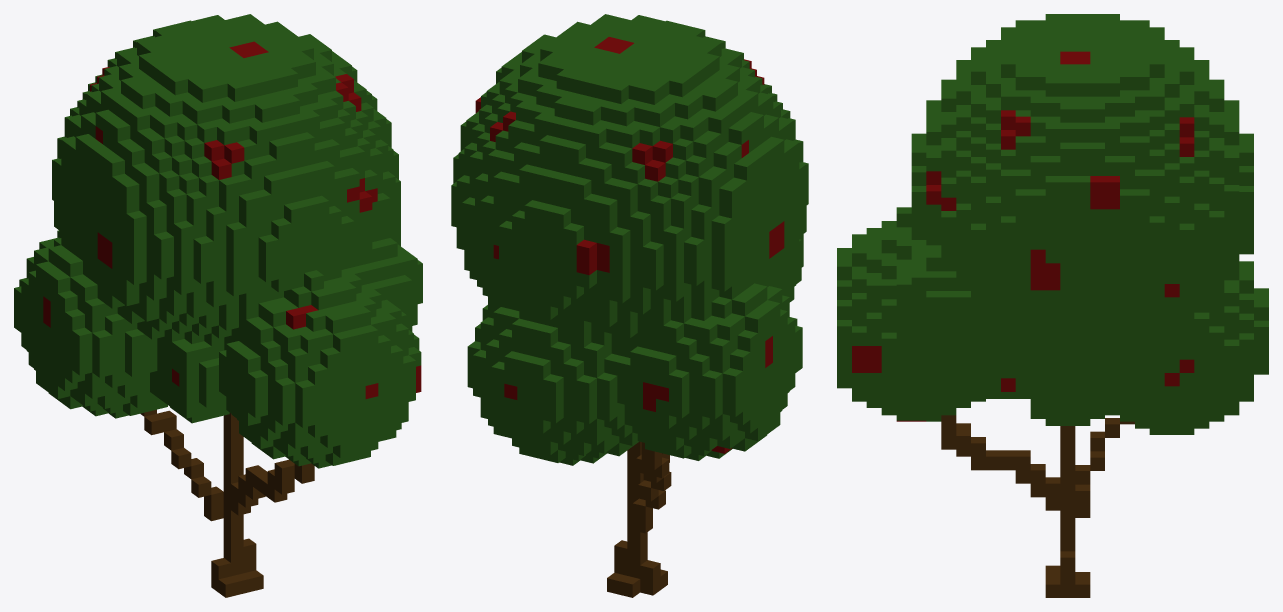
File: bush6.obj
The picture shows the model from 3 angles, left to right: view 1: azimuth 30°, elevation 25°; view 2: azimuth 150°, elevation 25°; view 3: azimuth 270°, elevation 25°; orthographic projection. The views are drawn at different scales.
Bounding box in the file's own units: 2.3 × 4 × 2.9.
Materials: 1 (1 with a texture image).
